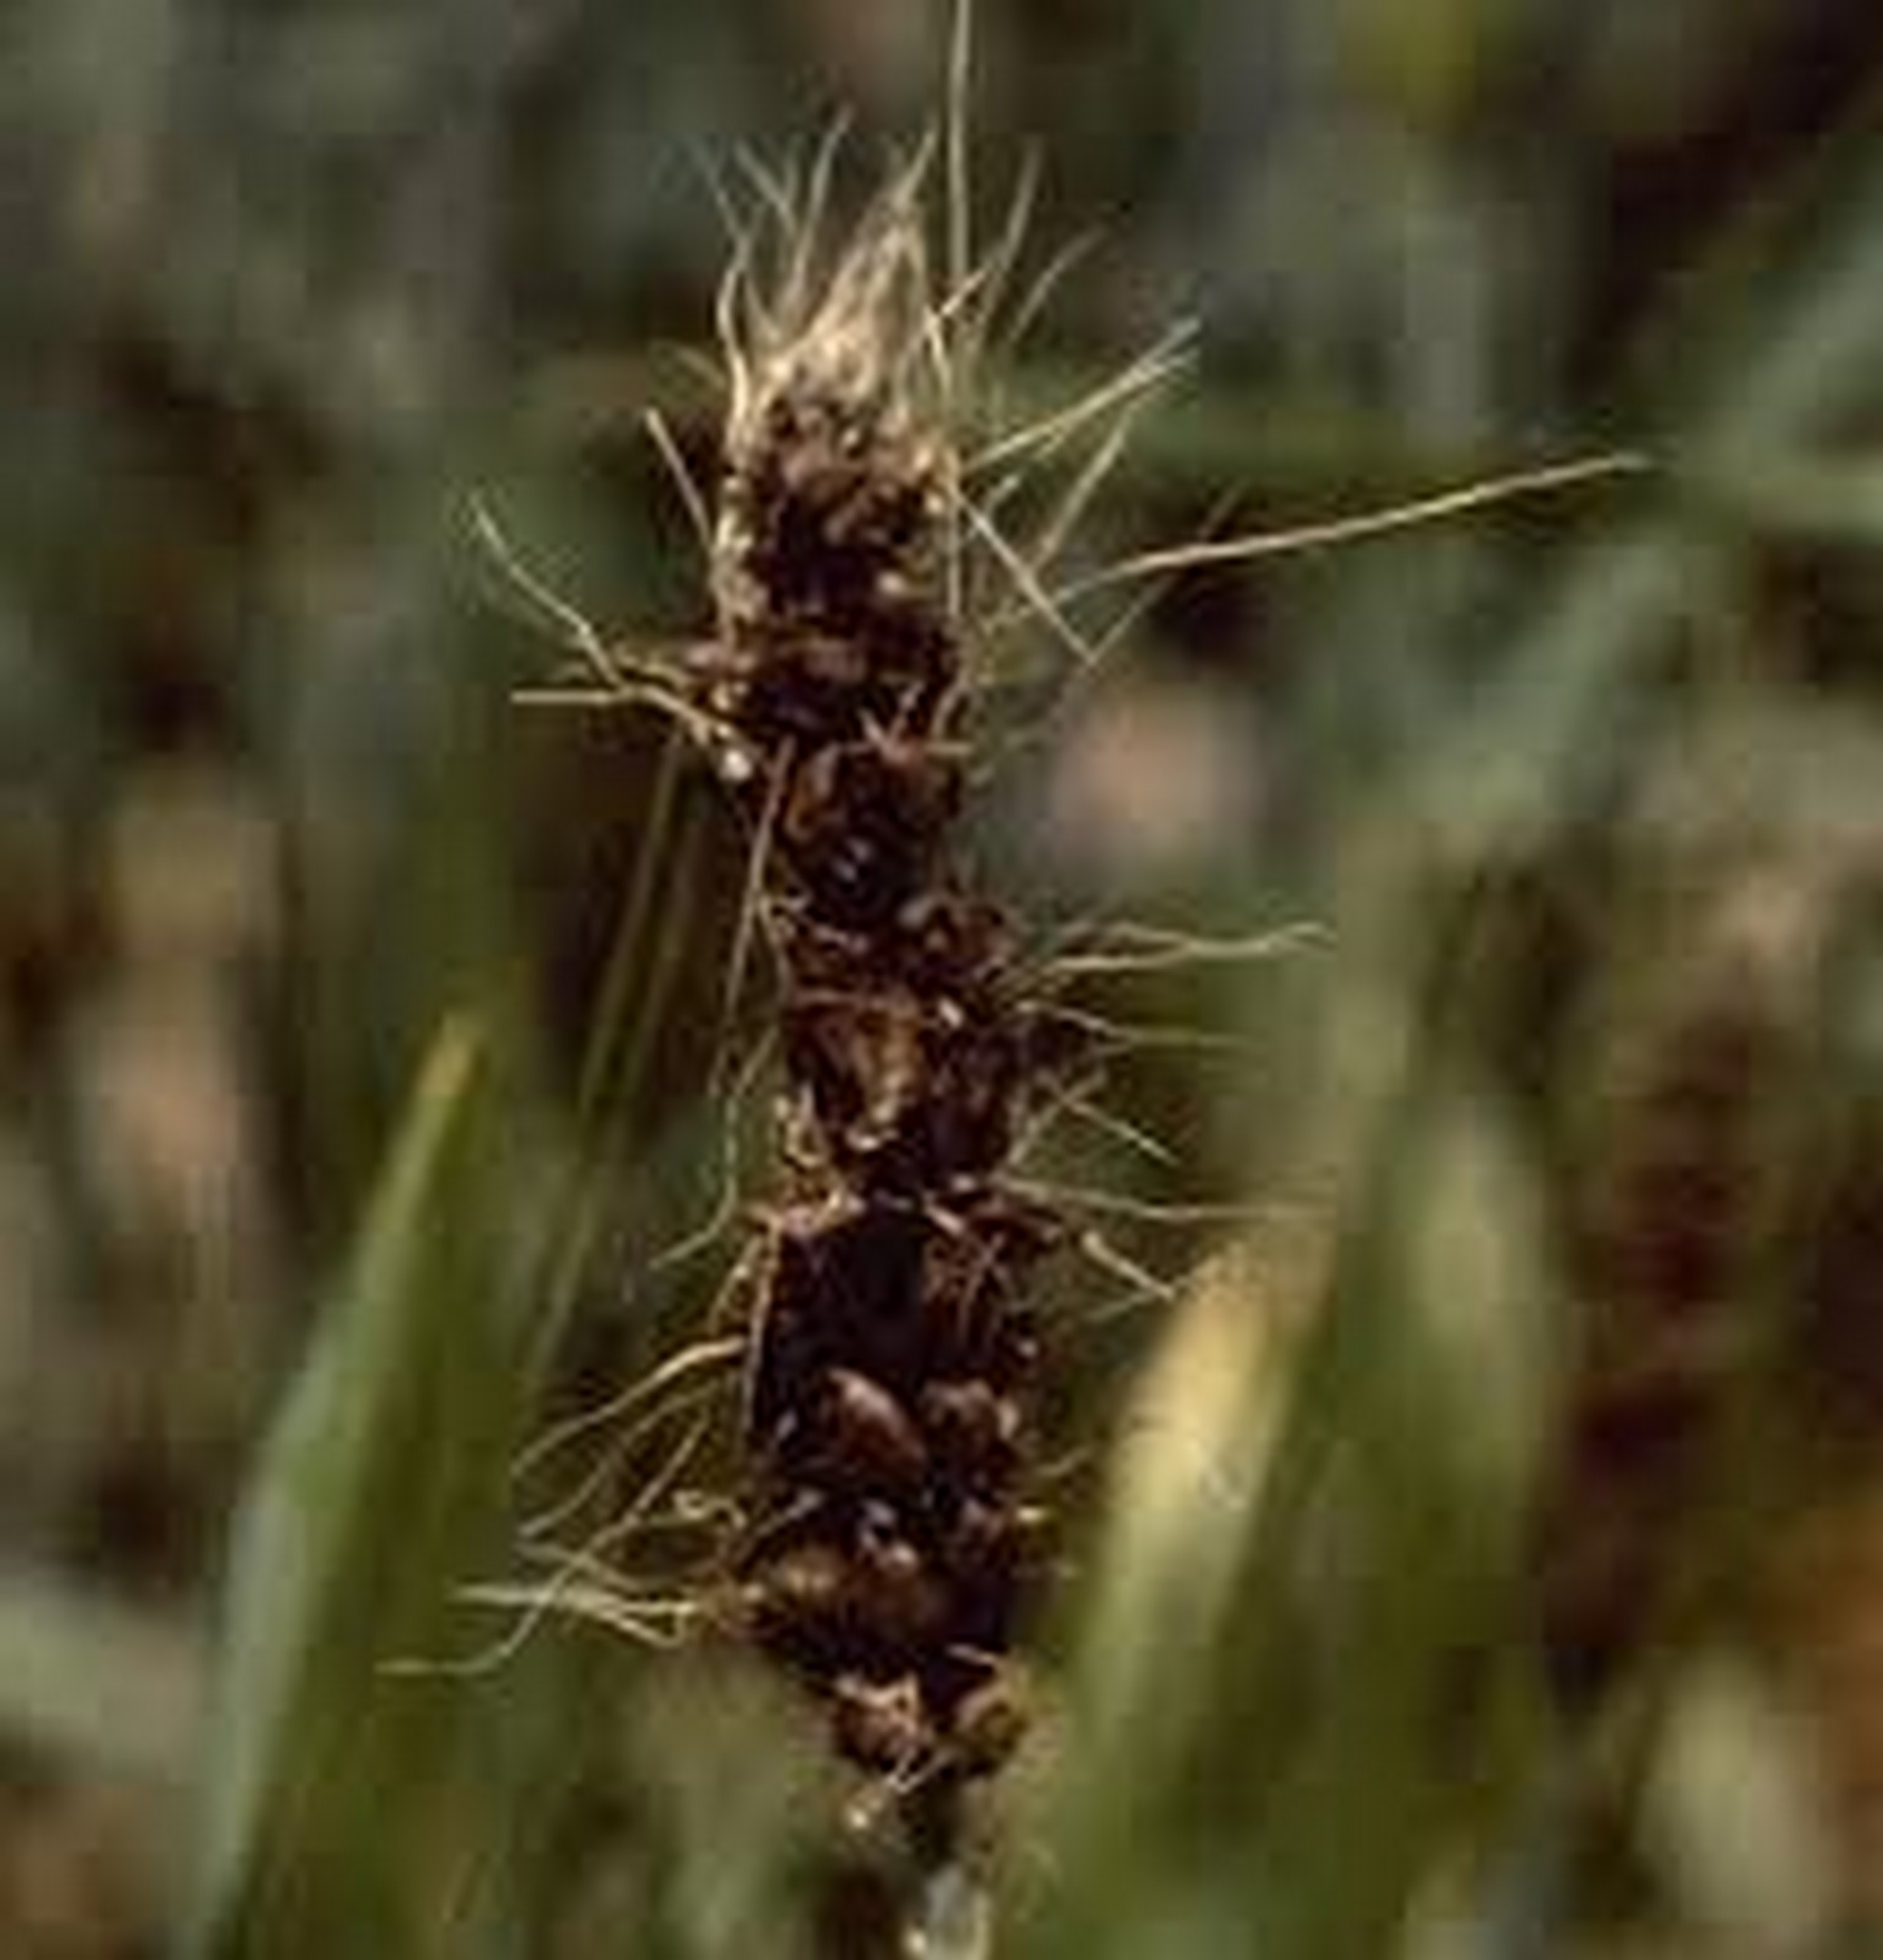Wheat Loose Smut: (551, 341, 1192, 1757)
